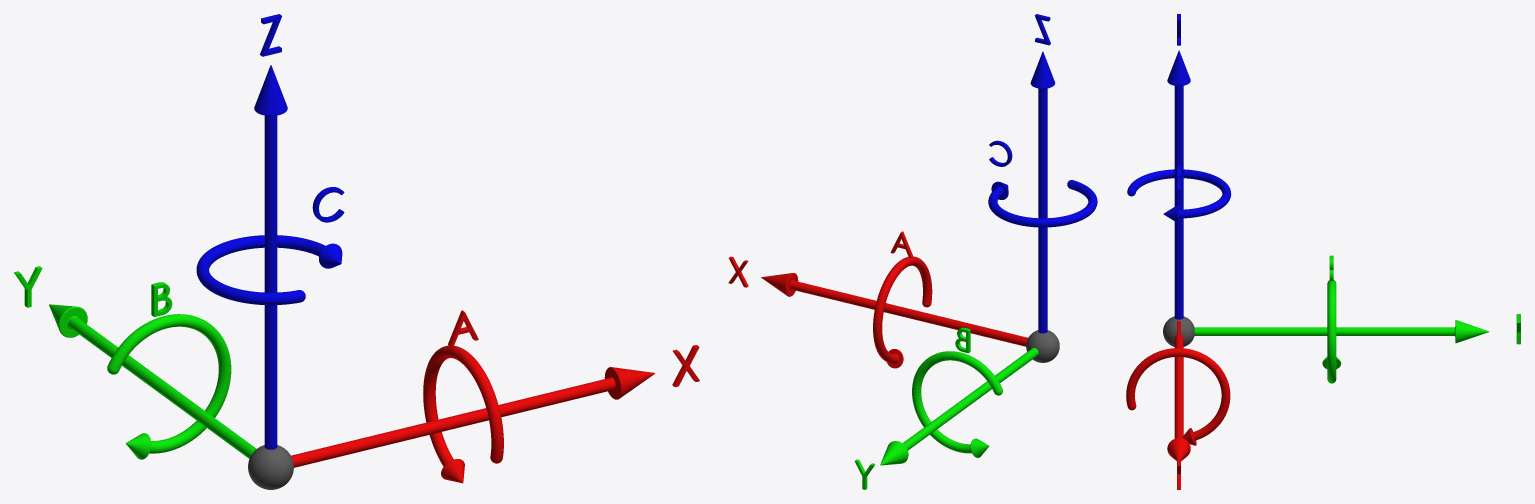
Rendered from Coordinate.dae.
3 renders of one model, left to right at view 1: azimuth 30°, elevation 25°; view 2: azimuth 150°, elevation 25°; view 3: azimuth 270°, elevation 25°, orthographic. The views are drawn at different scales.
Visible parts, largest first — view 1: Machine Coordinate System; view 2: Machine Coordinate System; view 3: Machine Coordinate System.
Part boxes in pixels (x1,y1,x2,y2): Machine Coordinate System: [14, 14, 699, 489]; Machine Coordinate System: [728, 14, 1097, 489]; Machine Coordinate System: [1126, 14, 1520, 489].
Size of the model in its own units: 0.9902 by 0.9826 by 0.9956.
